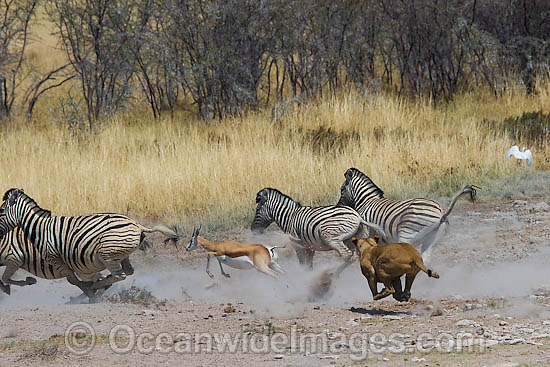Deer: (178, 227, 287, 290)
lion: (349, 230, 430, 302)
zebra: (1, 193, 151, 296), (335, 165, 453, 272), (251, 184, 369, 273)
